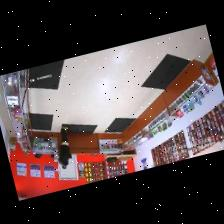person: (58, 126, 69, 165)
